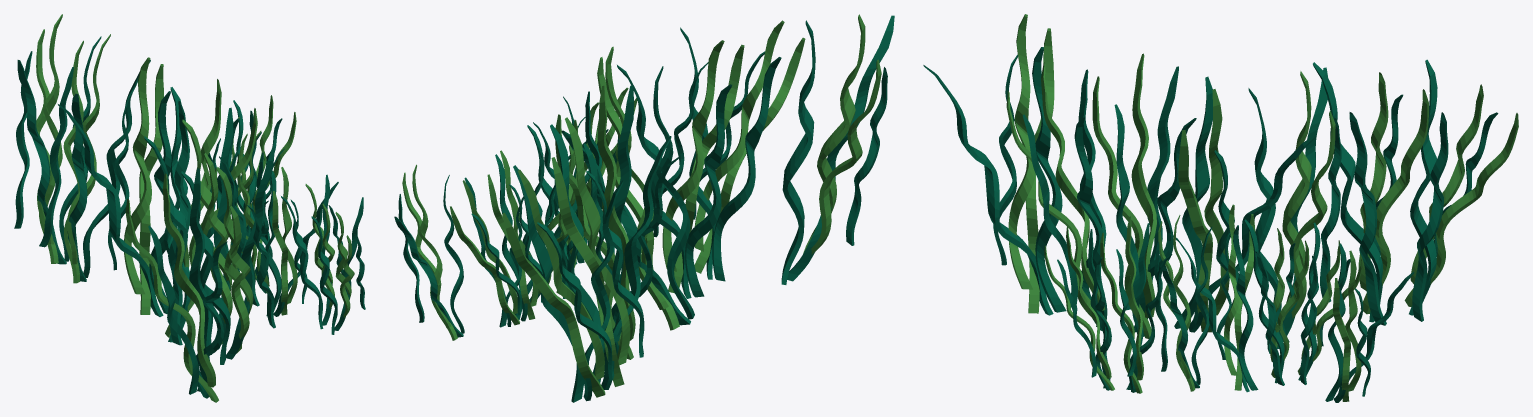
File: seaweed_end.fbx
3 views of the same model, side by side, from view 1: azimuth 30°, elevation 25°; view 2: azimuth 150°, elevation 25°; view 3: azimuth 270°, elevation 25° (orthographic). The views are drawn at different scales.
Parts seen in each view (by area): view 1: BezierCurve.054; view 2: BezierCurve.054; view 3: BezierCurve.054.
Boxes of the visible parts, <box> form: BezierCurve.054: <box>14,14,365,402</box>; BezierCurve.054: <box>394,14,894,402</box>; BezierCurve.054: <box>923,14,1518,402</box>.
Bounding box in the file's own units: 2092 × 1677 × 3248.
